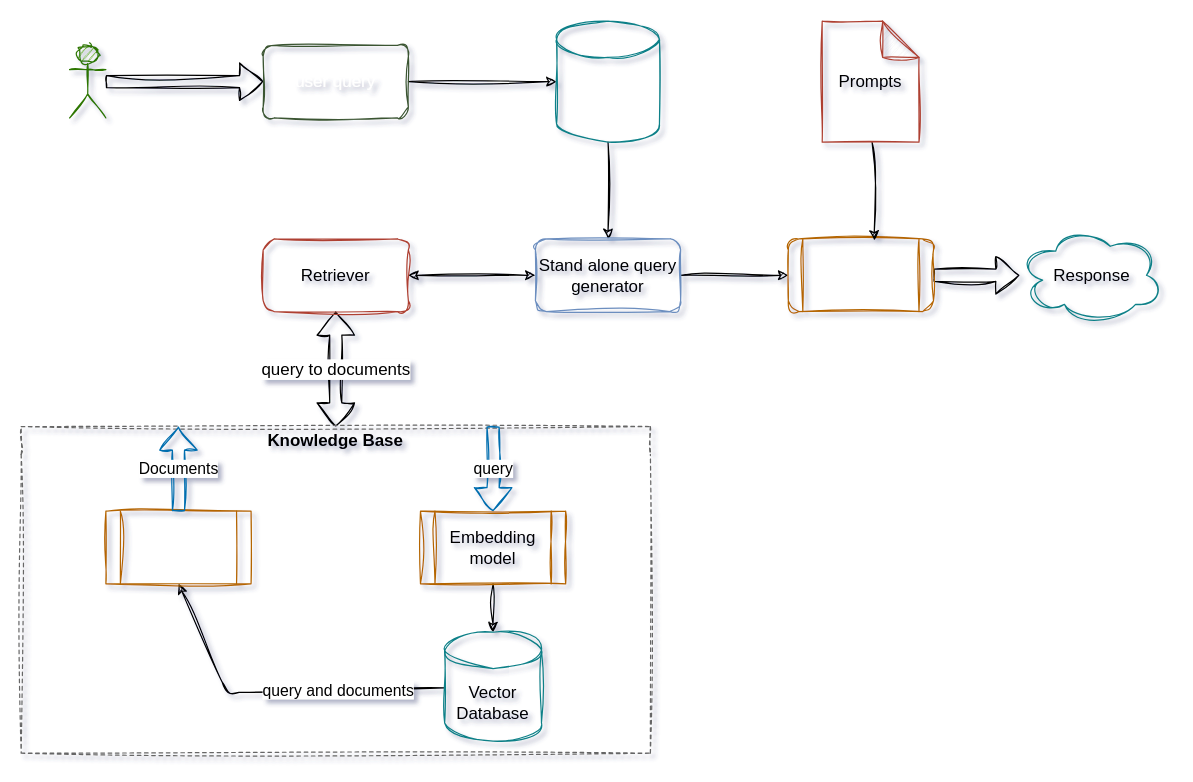
Image size: 1193x782. Some labels were removed from this diagram. Each missing label, with the centre of its shape:
Conversation history: [607,81]
LLM: [860,275]
Reranker: [178,547]
user: [87,81]
